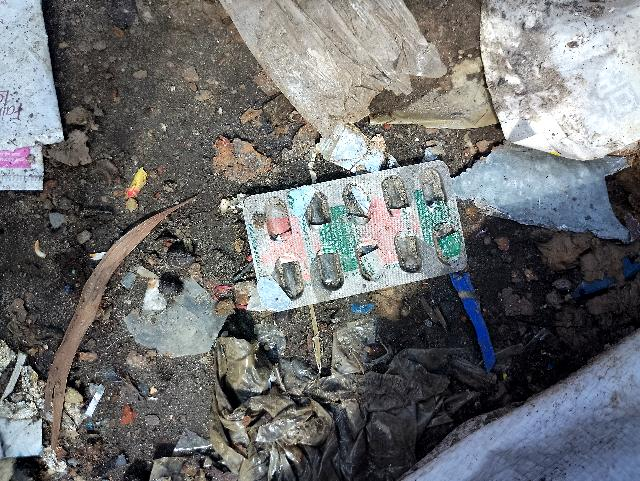medicine: (235, 149, 473, 311)
